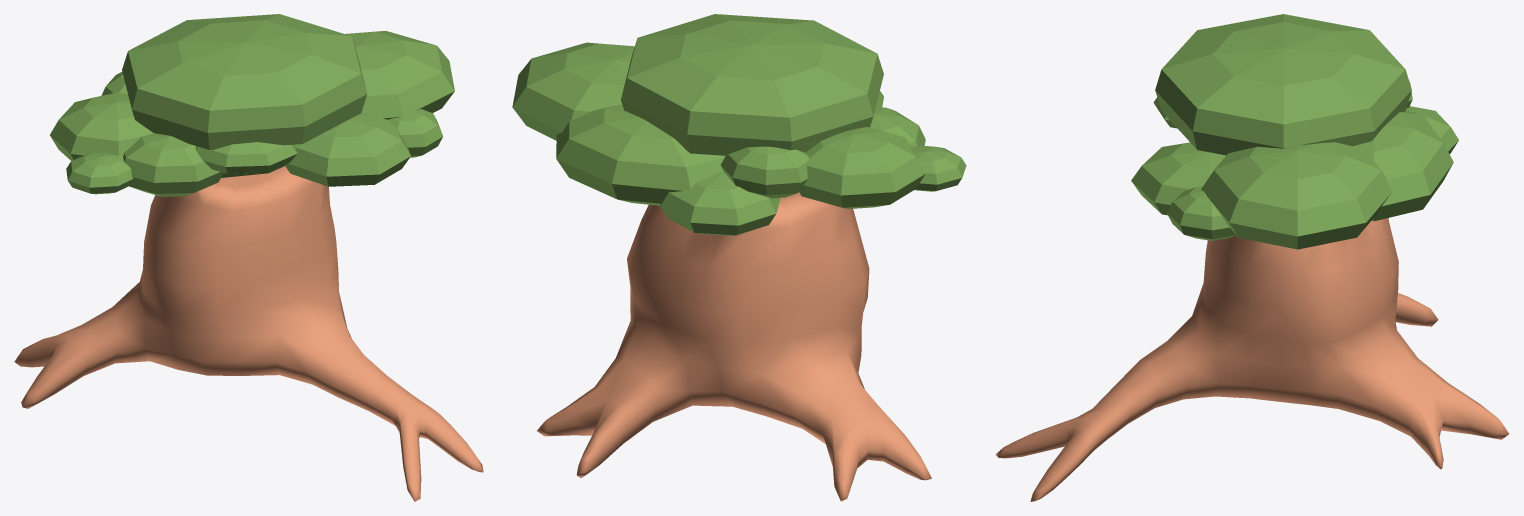
The model's file is tree1.fbx.
The picture shows the model from 3 angles, left to right: view 1: azimuth 30°, elevation 25°; view 2: azimuth 150°, elevation 25°; view 3: azimuth 270°, elevation 25°; orthographic projection. The views are drawn at different scales.
Visible parts, largest first — view 1: tree1_leaves1, tree1_trunk; view 2: tree1_leaves1, tree1_trunk; view 3: tree1_leaves1, tree1_trunk.
Part boxes in pixels (x1,y1,x2,y2): tree1_leaves1: [50, 14, 454, 196]; tree1_trunk: [14, 166, 483, 501]; tree1_leaves1: [512, 14, 966, 235]; tree1_trunk: [537, 192, 931, 501]; tree1_leaves1: [1131, 14, 1458, 249]; tree1_trunk: [995, 218, 1509, 501].
Size of the model in its own units: 14.5 by 12.67 by 15.03.
